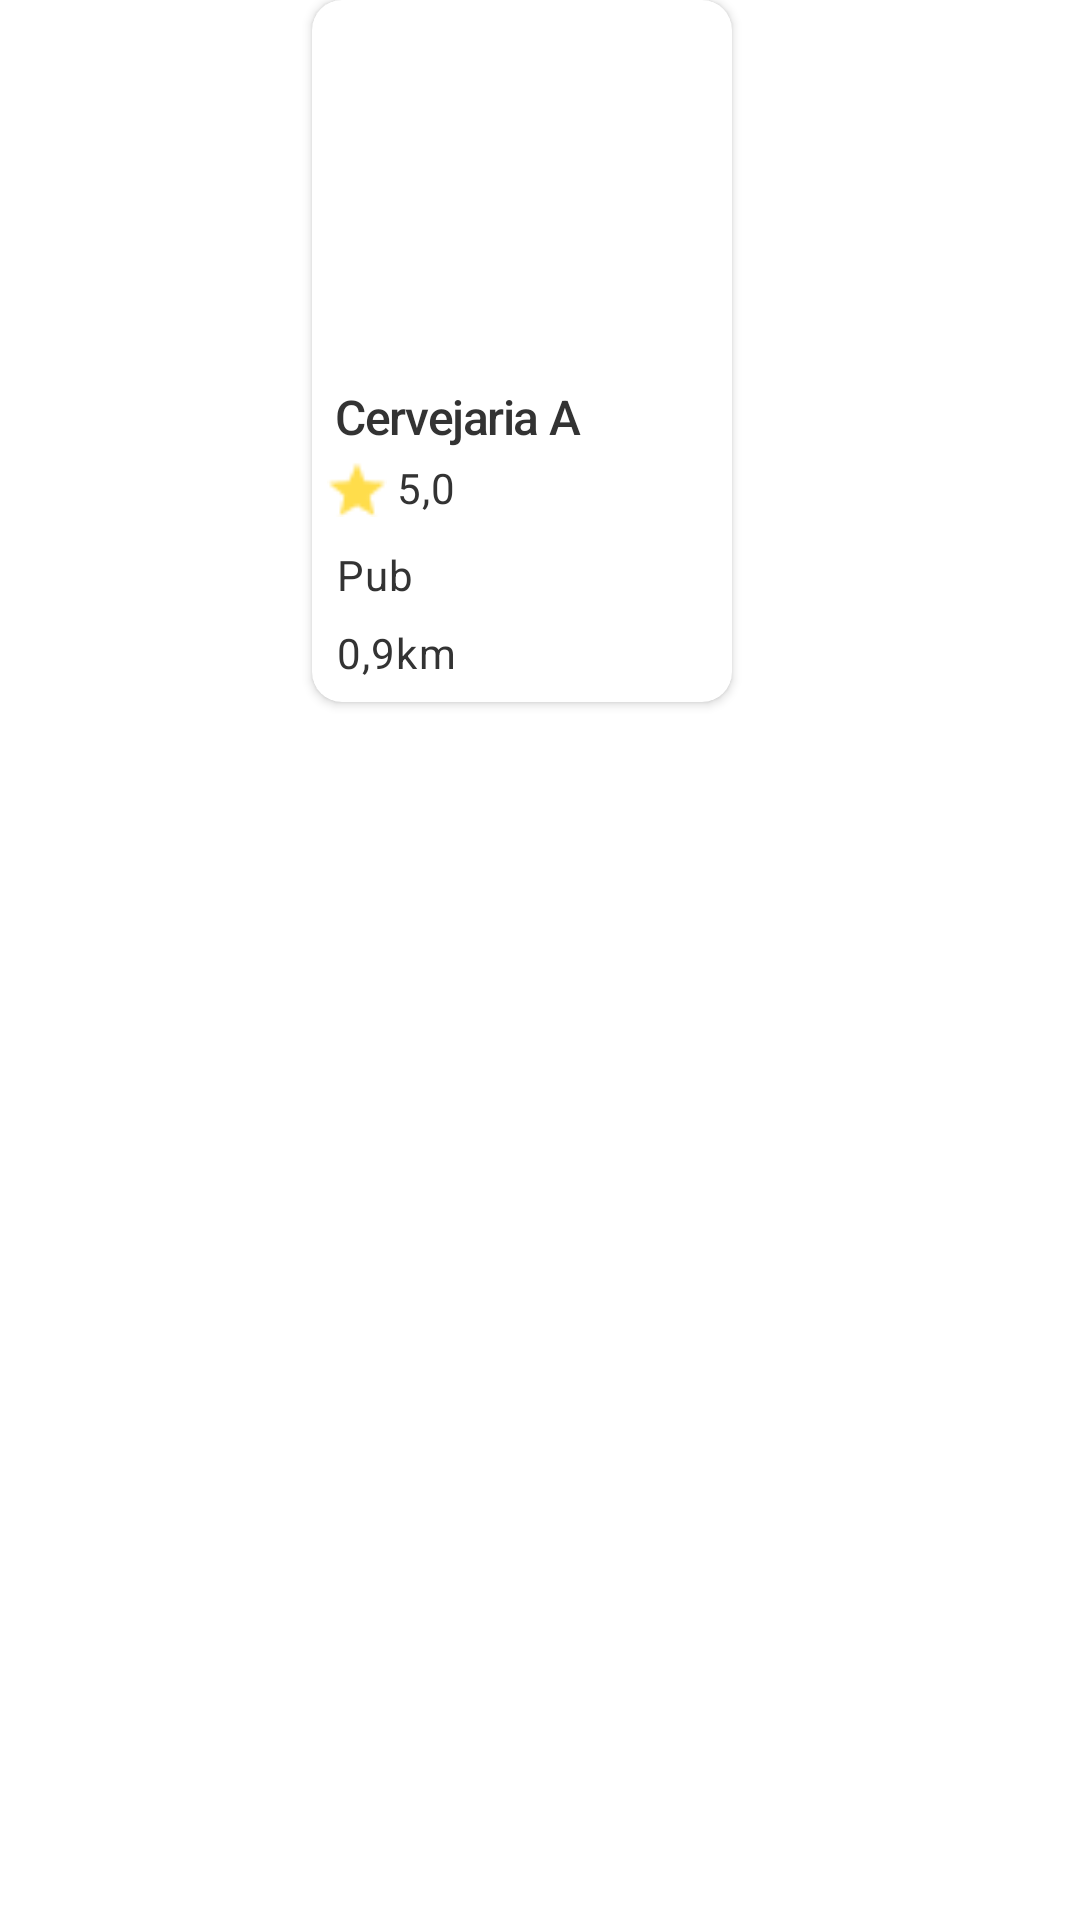

Point at icon controls on the screen. Image size 1080px×1920px, points as point (x, y).
star: point (357, 490)
